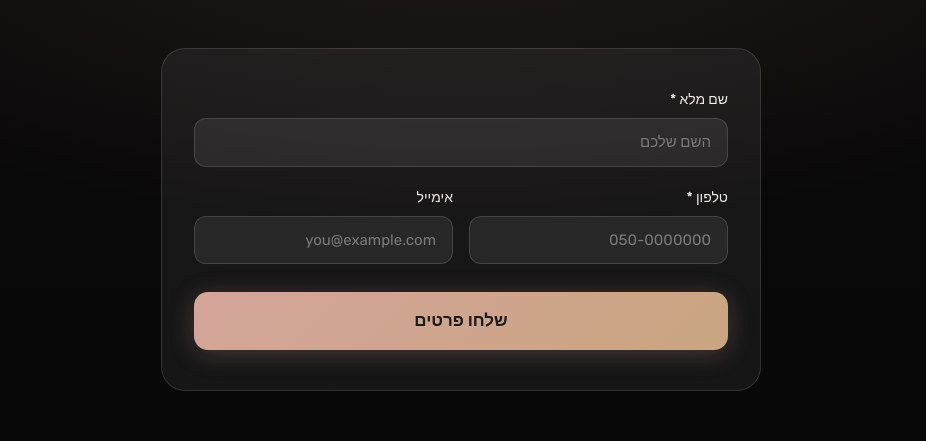
Test: OrderForm › shows error message on failed submission
Type "Test User" into the field with placeholder "השם שלכם" at (461, 142), box [194,118,728,166]
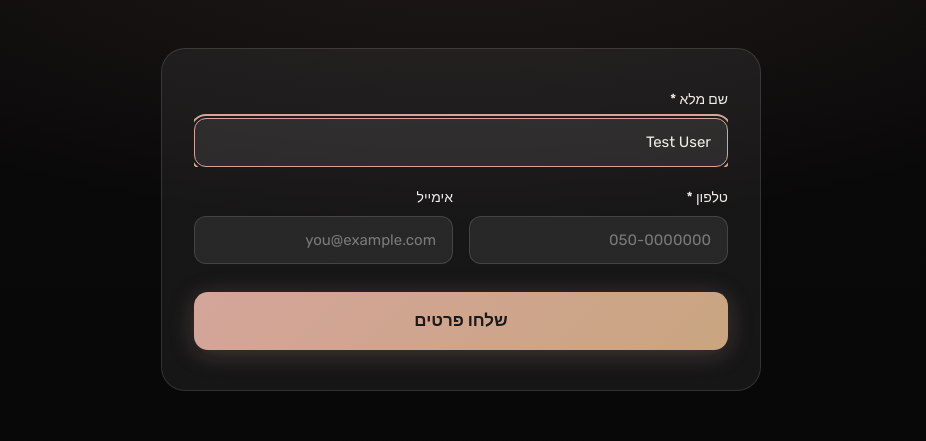
Type "0501234567" into the field with placeholder "050-0000000" at (598, 240), box [469,216,728,264]
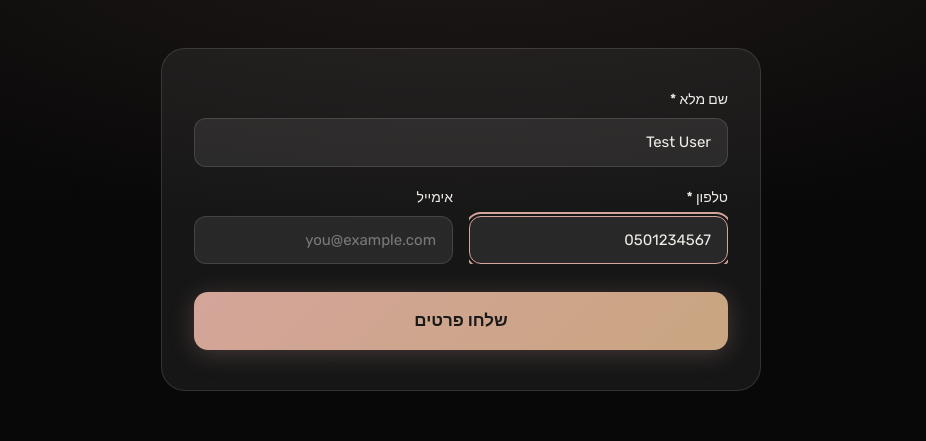
Type "test@example.com" into the field with placeholder "you@example.com" at (324, 240), box [194,216,453,264]
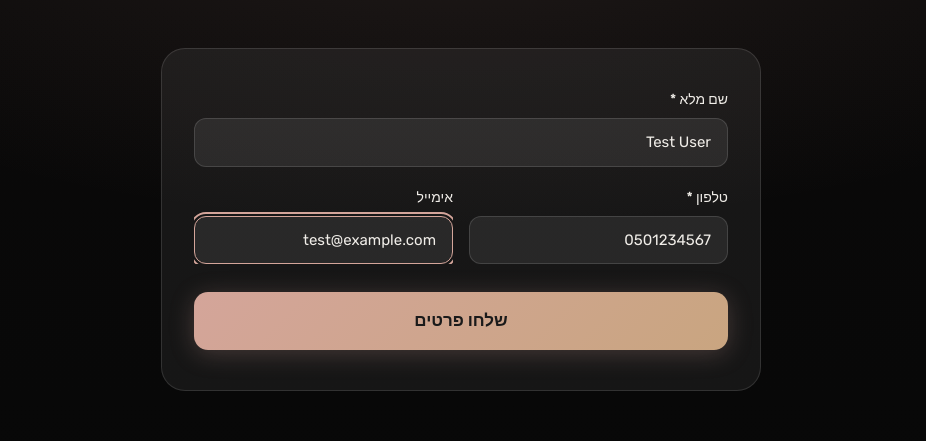
Submit the form, box [161,48,761,390]
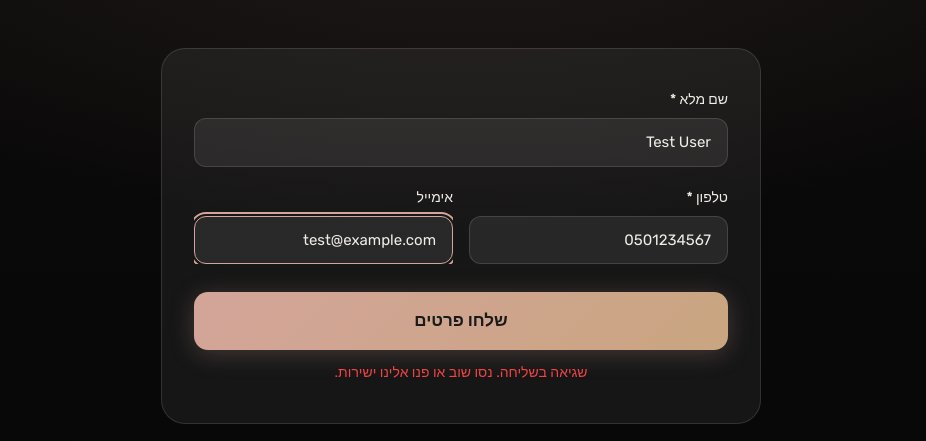
Result: the text "שגיאה בשליחה. נסו שוב או פנו אלינו ישירות." is shown at [334,364,587,380]
